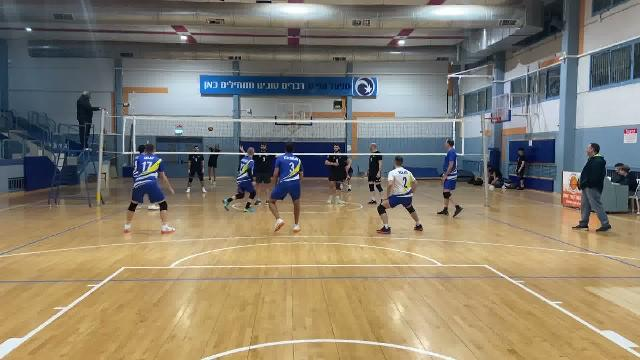ball: (208, 125, 214, 132)
